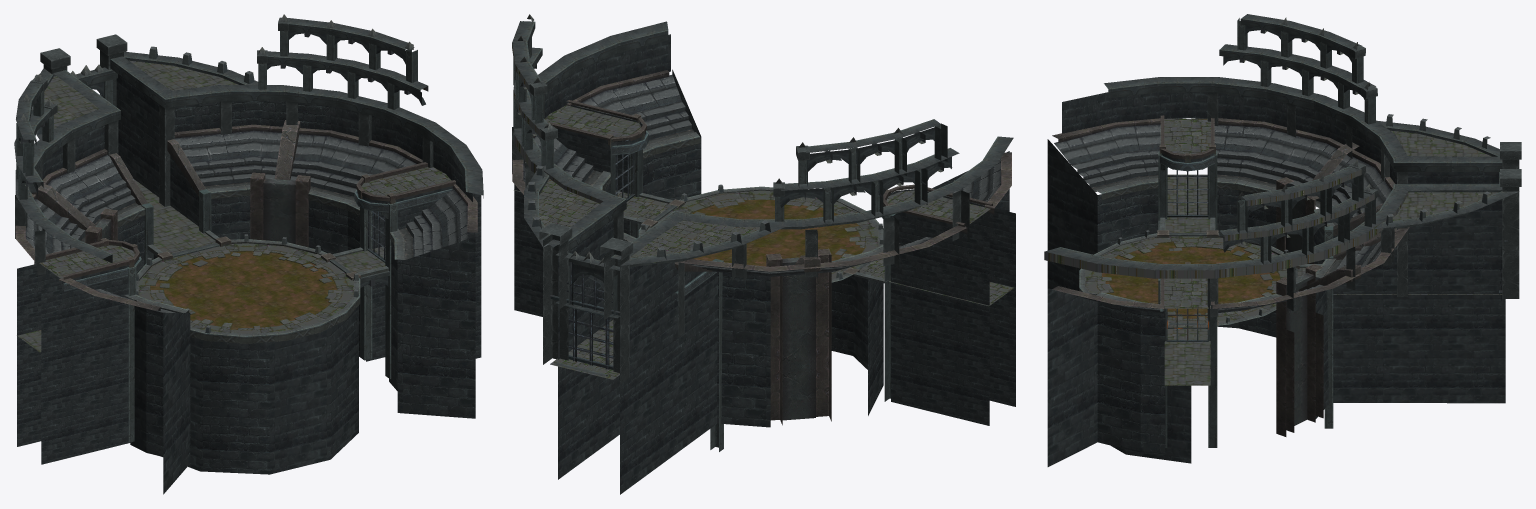
The model's file is terrain_jingjichangpaihang.FBX.
The picture shows the model from 3 angles, left to right: view 1: azimuth 30°, elevation 25°; view 2: azimuth 150°, elevation 25°; view 3: azimuth 270°, elevation 25°; orthographic projection. The views are drawn at different scales.
Parts seen in each view (by area): view 1: terrain_jingjichangpaihang; view 2: terrain_jingjichangpaihang; view 3: terrain_jingjichangpaihang.
Boxes of the visible parts, x1,y1,x2,y2 form: terrain_jingjichangpaihang: (14,14,483,494); terrain_jingjichangpaihang: (512,14,1015,494); terrain_jingjichangpaihang: (1044,14,1521,466).
Bounding box in the file's own units: 78.4 × 54.78 × 74.96.
